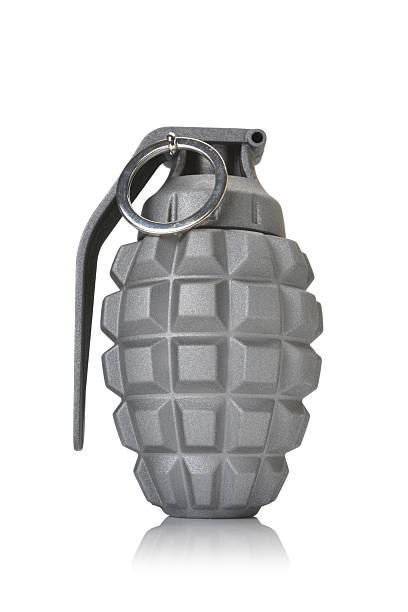e1: (68, 122, 326, 524)
